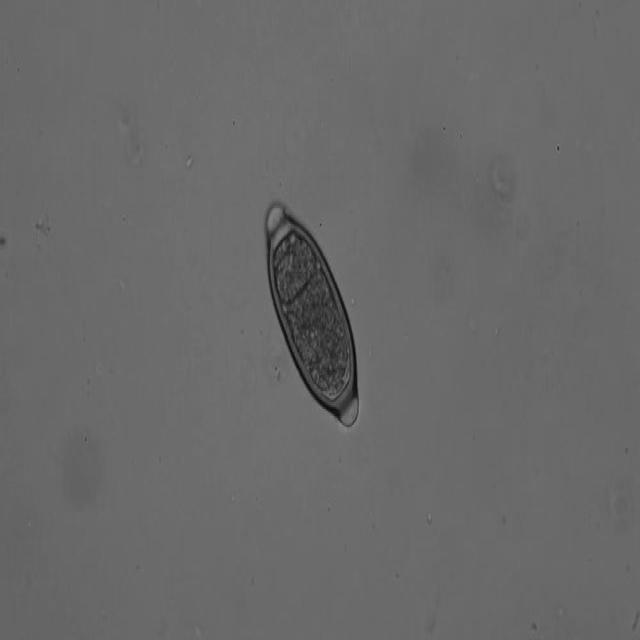Trichuris Trichiura: (254, 188, 366, 442)
